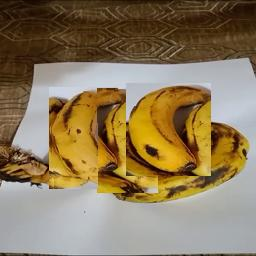Banana Semifresh: (126, 83, 211, 176), (49, 87, 118, 189), (97, 89, 158, 193)
